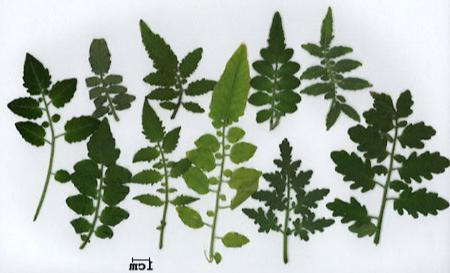Tomato leaf: (206, 42, 253, 126), (222, 134, 262, 170), (217, 226, 256, 256), (223, 179, 259, 211), (225, 163, 260, 190), (176, 202, 208, 231), (182, 162, 208, 196), (186, 144, 218, 167), (192, 130, 223, 153)
